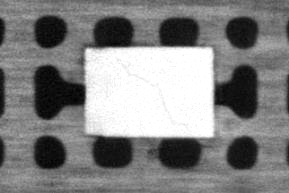DIE_CRACK: (118, 61, 187, 129)
